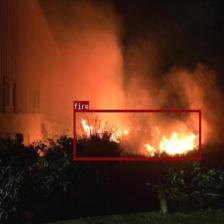fire: (73, 109, 201, 160)
